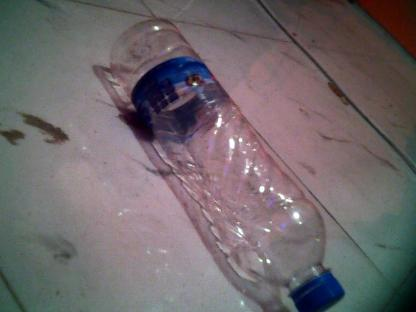Plastic Bottle: (105, 11, 348, 312)
